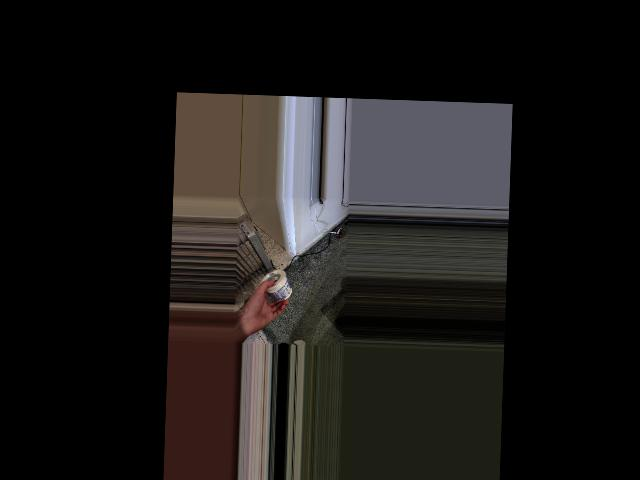cotage: (262, 270, 292, 304)
